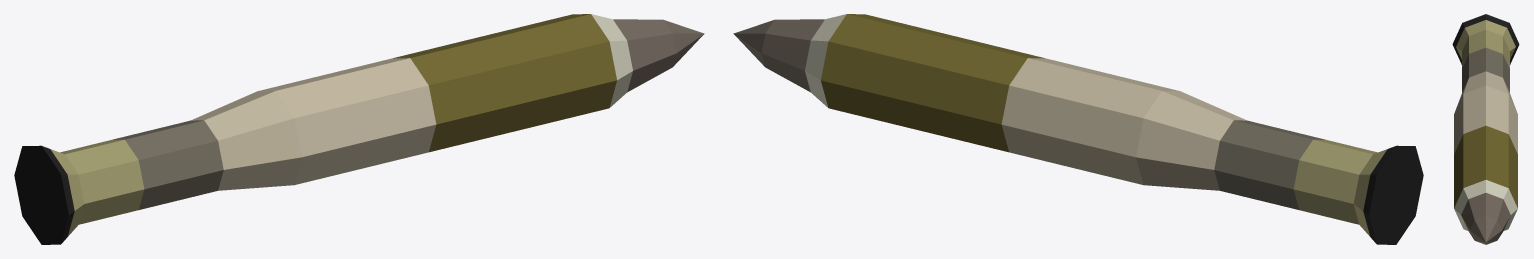
Rendered from anti_tank_rocket.fbx.
3 views of the same model, side by side, from view 1: azimuth 30°, elevation 25°; view 2: azimuth 150°, elevation 25°; view 3: azimuth 270°, elevation 25° (orthographic). The views are drawn at different scales.
Visible parts, largest first — view 1: anti_tank; view 2: anti_tank; view 3: anti_tank.
Boxes of the visible parts, x1,y1,x2,y2 form: anti_tank: (14, 14, 704, 244); anti_tank: (733, 14, 1423, 244); anti_tank: (1452, 14, 1519, 244).
Size of the model in its own units: 98.29 by 14.05 by 14.05.
